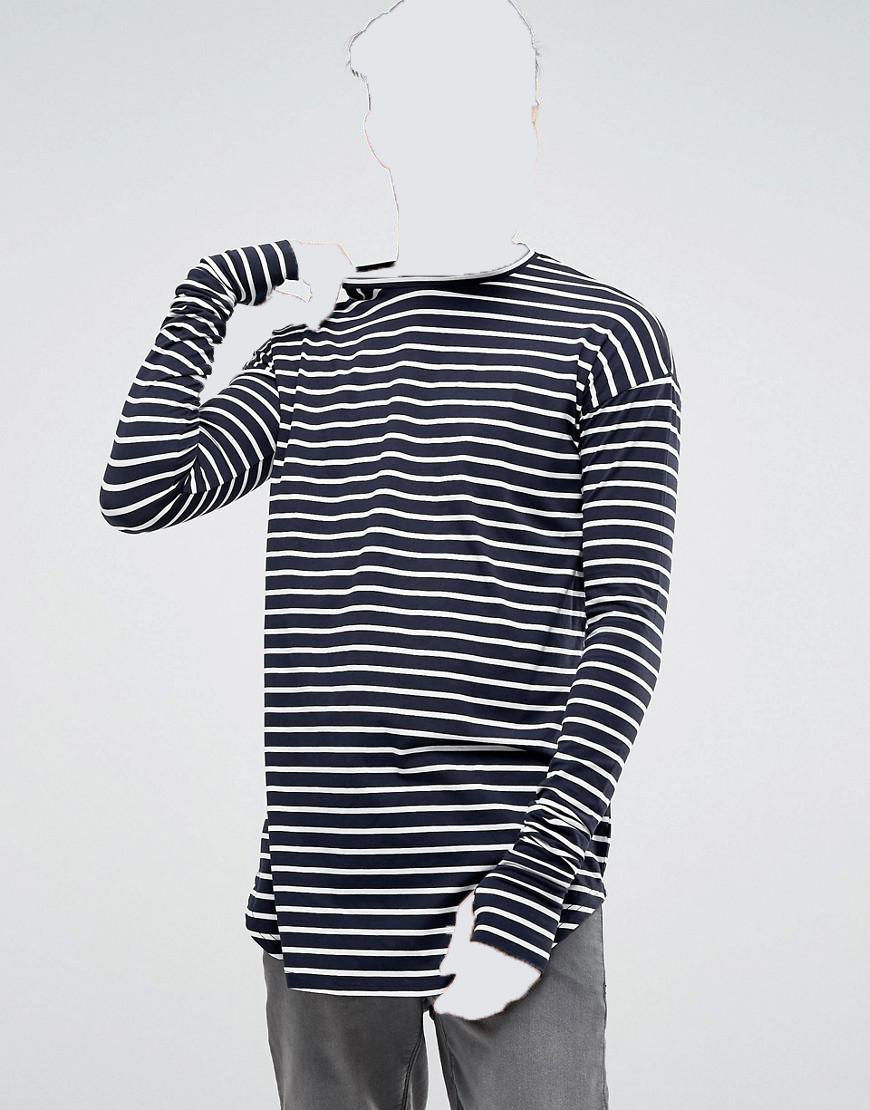teeshirt: (105, 239, 700, 1000)
